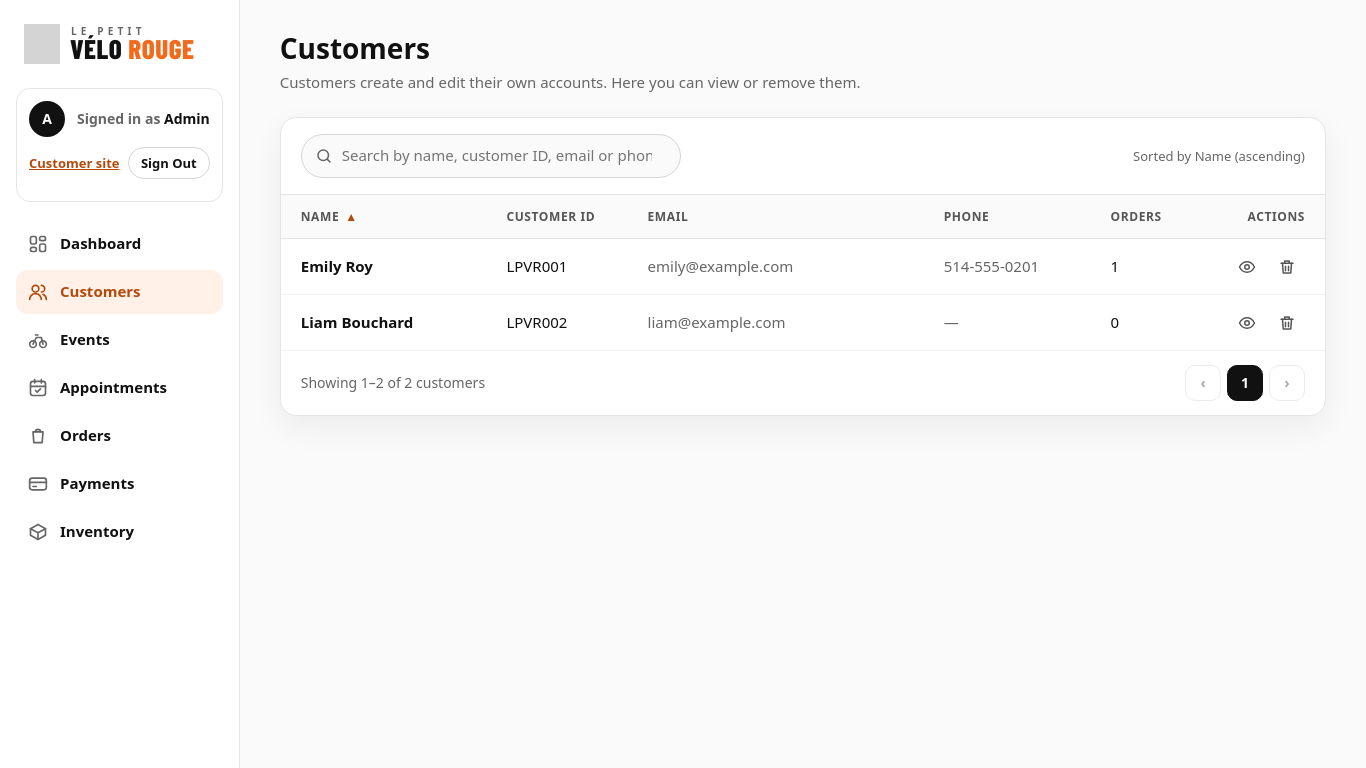
Test: view-and-delete modules › lets the admin view and delete customers but not add or edit them
expect the button "Emily Roy" is shown: met, box [301,249,373,285]
Click the button named "Delete Emily Roy". click: (1287, 267)
box: [1269,249,1305,285]
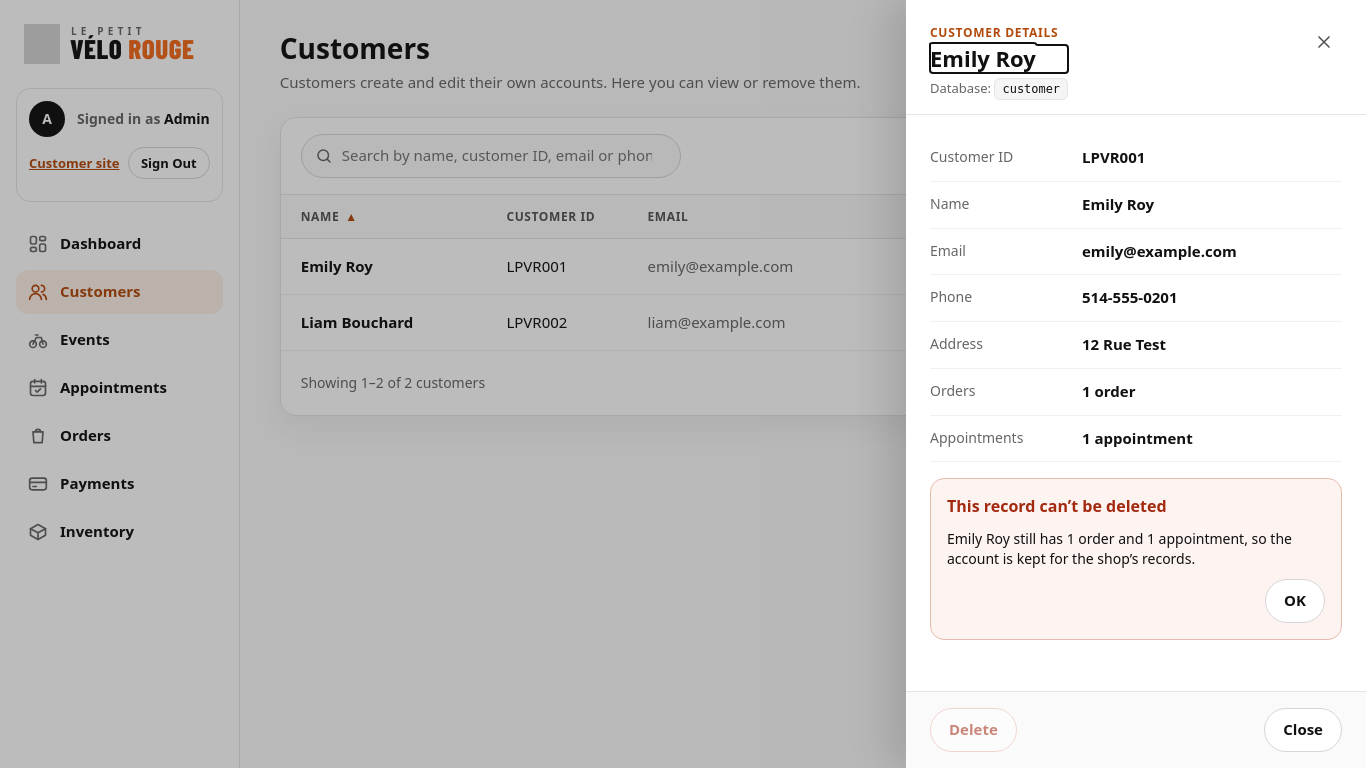
expect the button "Delete record" is not shown: met
expect the heading "This record can’t be deleted" is shown: met, box [947,496,1166,518]
expect the text "still has 1 order and 1 appointment" is shown: met, box [947,529,1292,568]
Click the button "Close". click: (1303, 730)
box: [1264,708,1342,752]
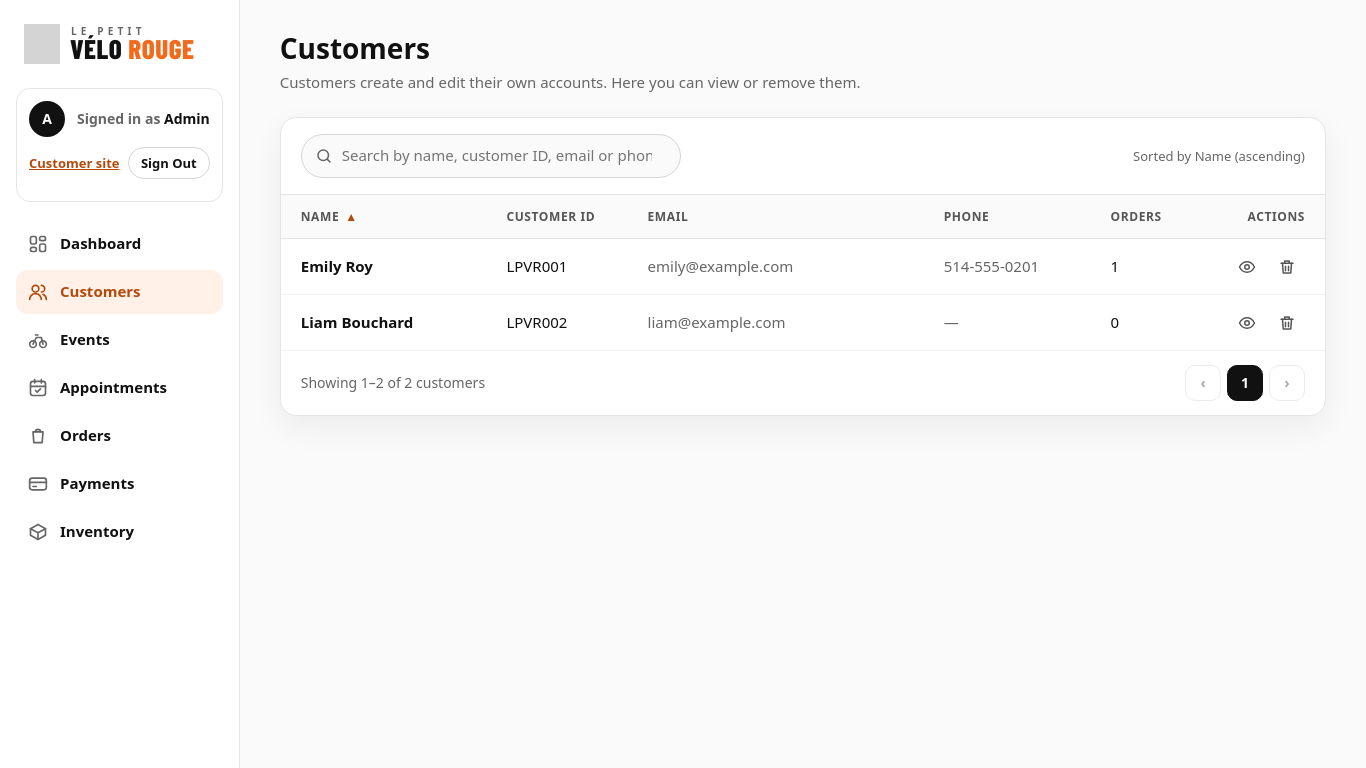
Click the button named "Delete Liam Bouchard". click: (1287, 323)
box: [1269,305,1305,341]
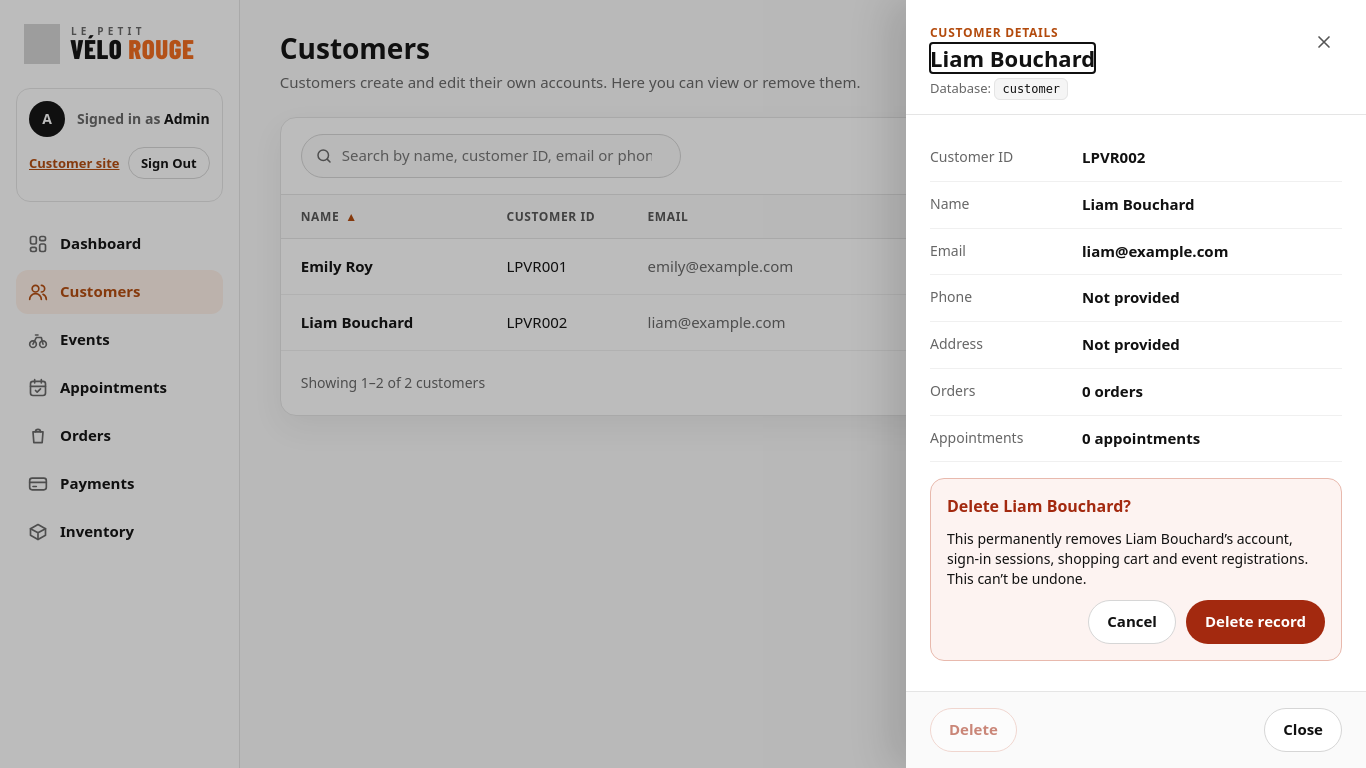
Click the button "Delete record". click: (1255, 622)
box: [1186,600,1325,644]
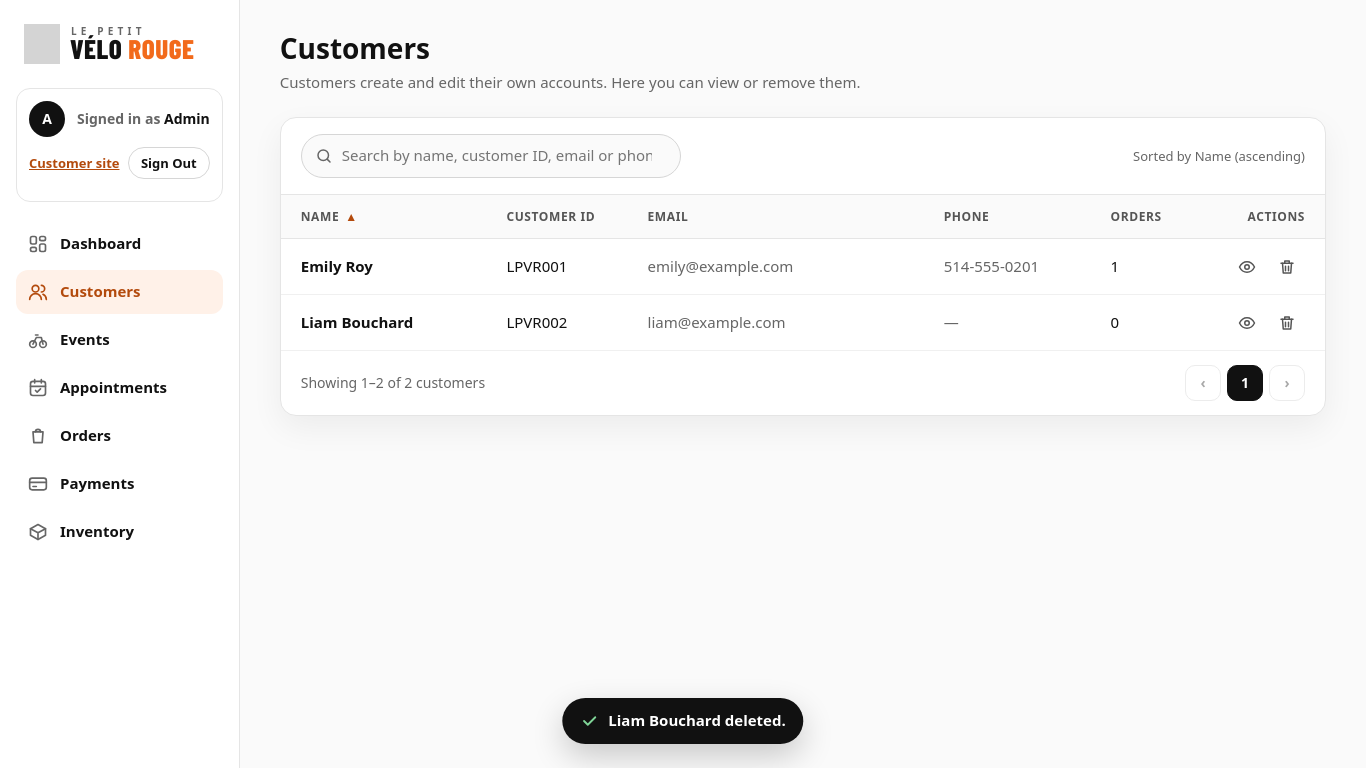
expect the text "Liam Bouchard deleted." is shown: met, box [562,698,804,744]
